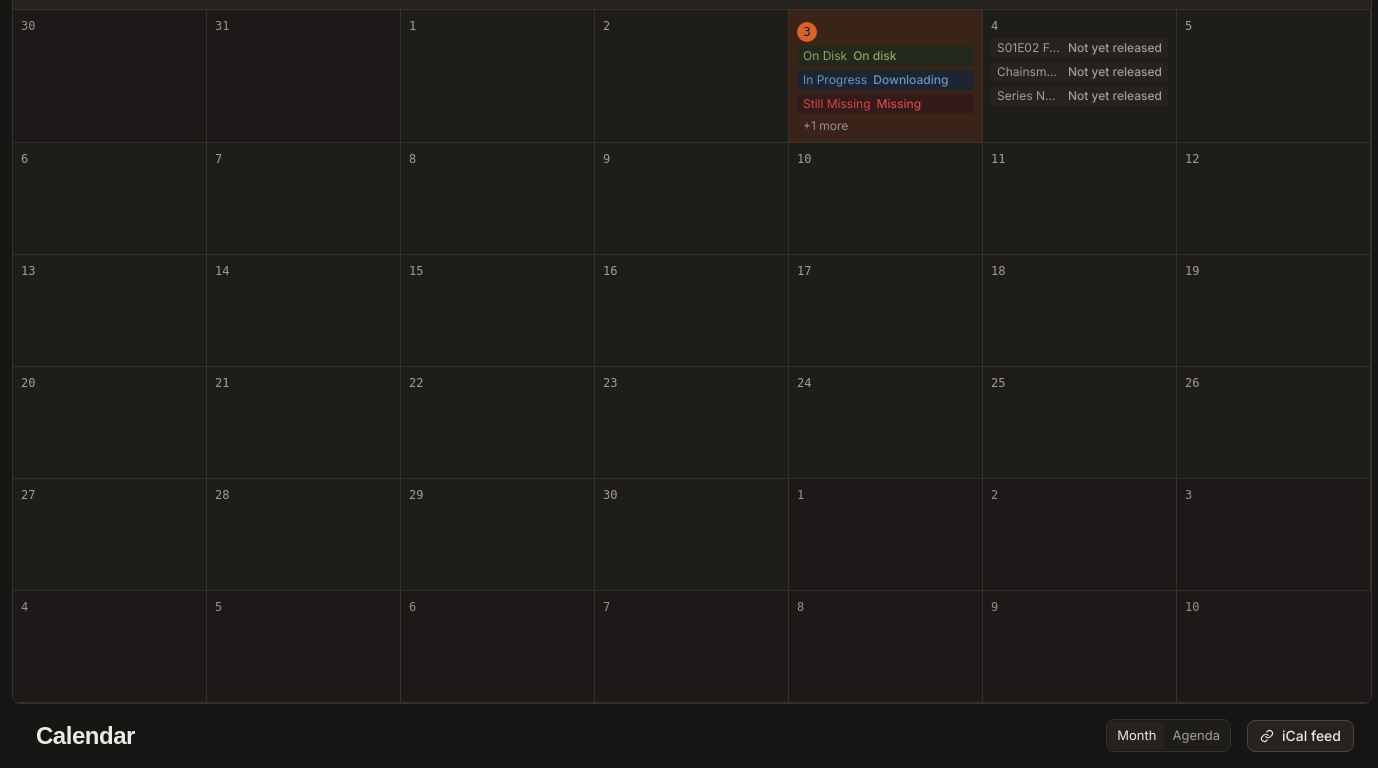
Test case: Calendar › links movies, episodes and adult scenes to their library pages
This screenshot has width=1378, height=768.
(page scrolled)
Check: the link to "/movies/1" is shown, box x1=797 y1=46 x2=974 y2=66
Check: the link with id "s1e2" is shown, box x1=991 y1=38 x2=1168 y2=58
Step 1. Click the button "Agenda" → point(1196, 736), box x1=1164 y1=722 x2=1228 y2=749
(page scrolled)
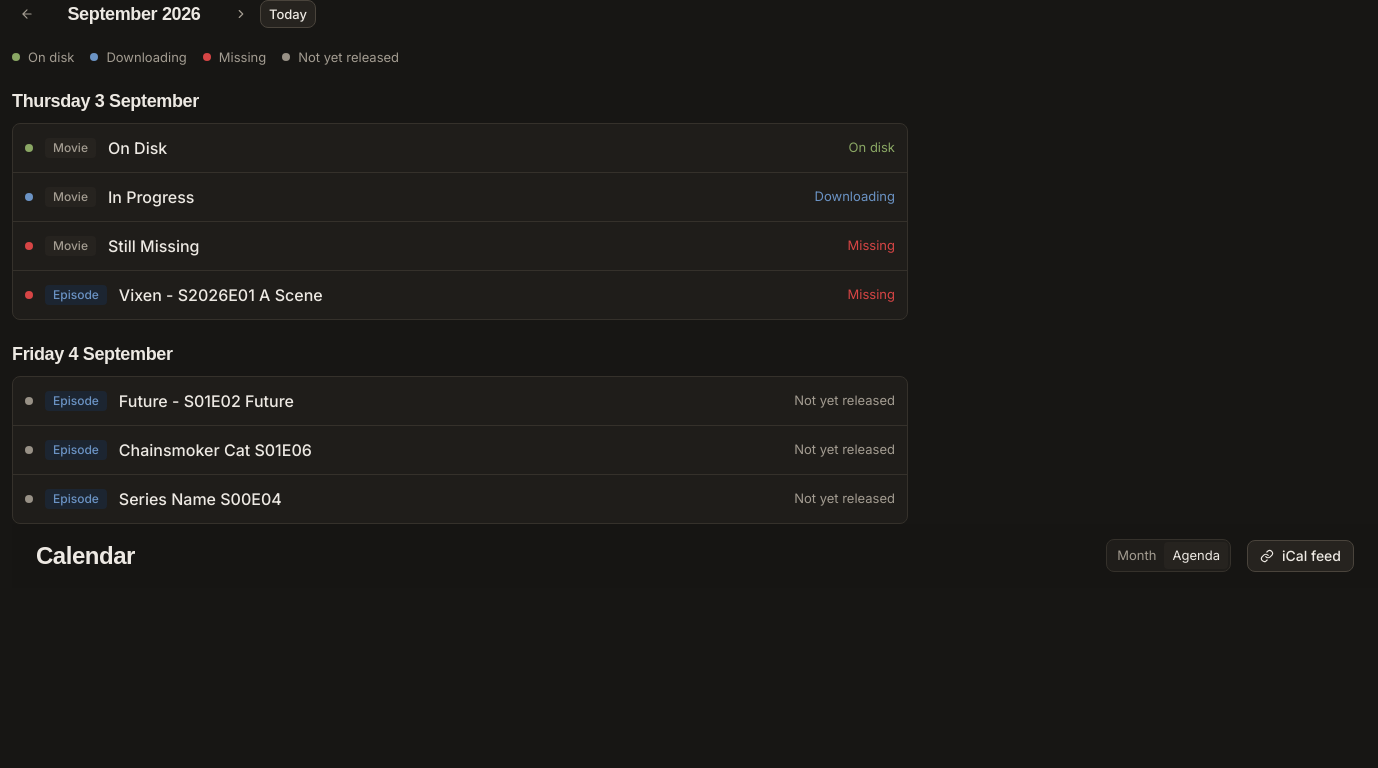
Check: the link to "/movies/2" is shown, box x1=108 y1=187 x2=194 y2=207
Check: the link with id "y2026n1" shows "Vixen", box x1=119 y1=285 x2=323 y2=305
